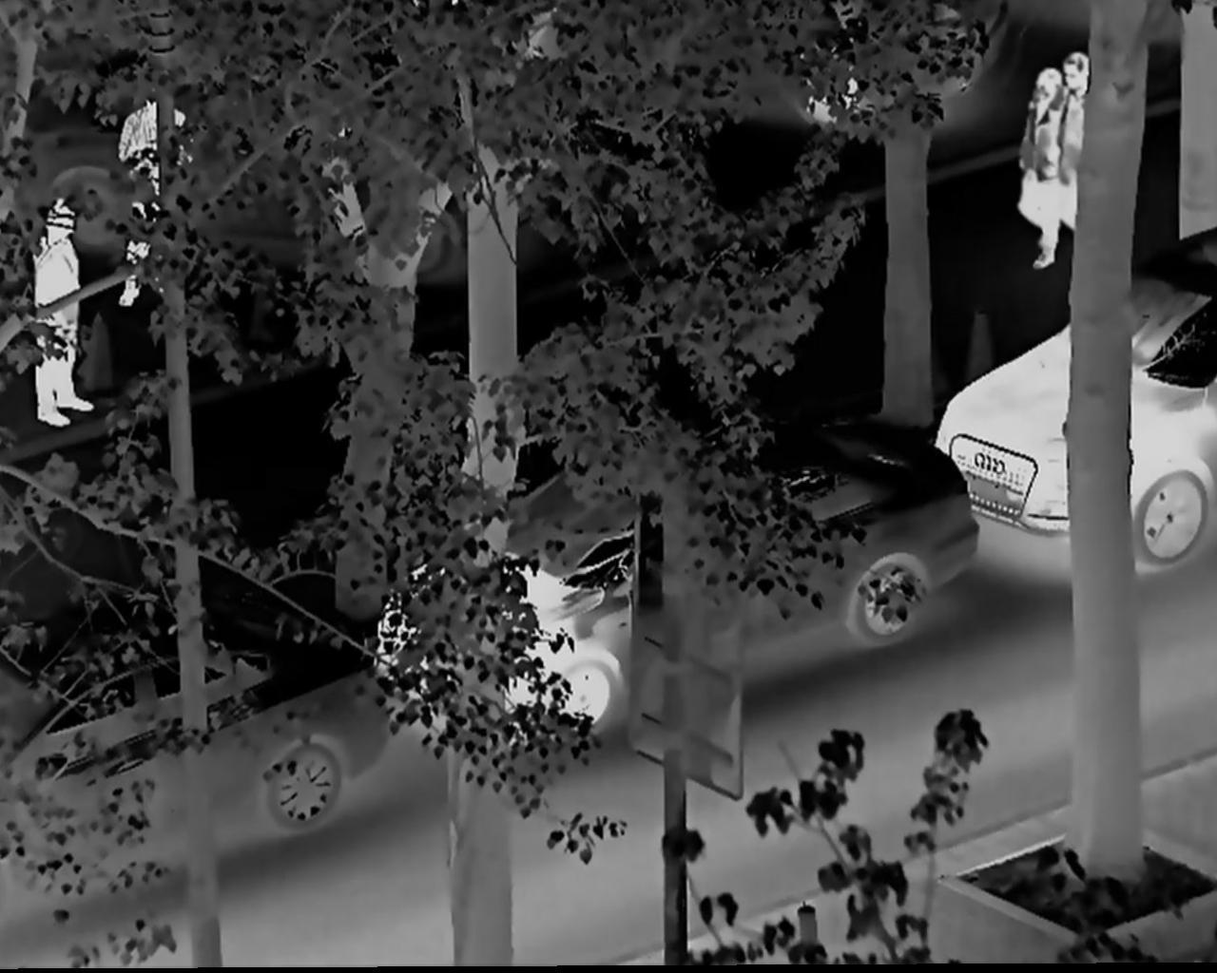person: (116, 89, 199, 307), (32, 200, 96, 427), (1050, 48, 1109, 267), (1014, 64, 1062, 261)
